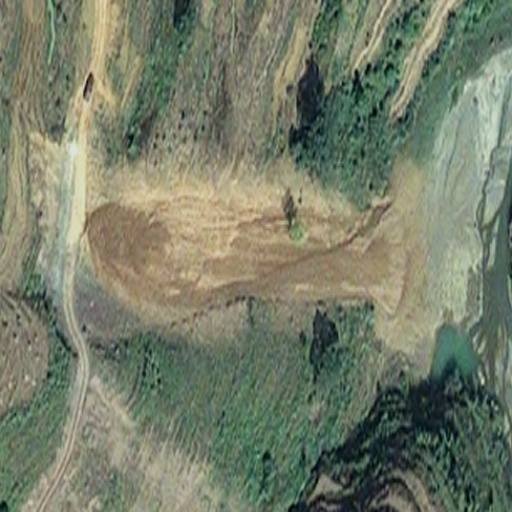landslide: (82, 166, 428, 336)
